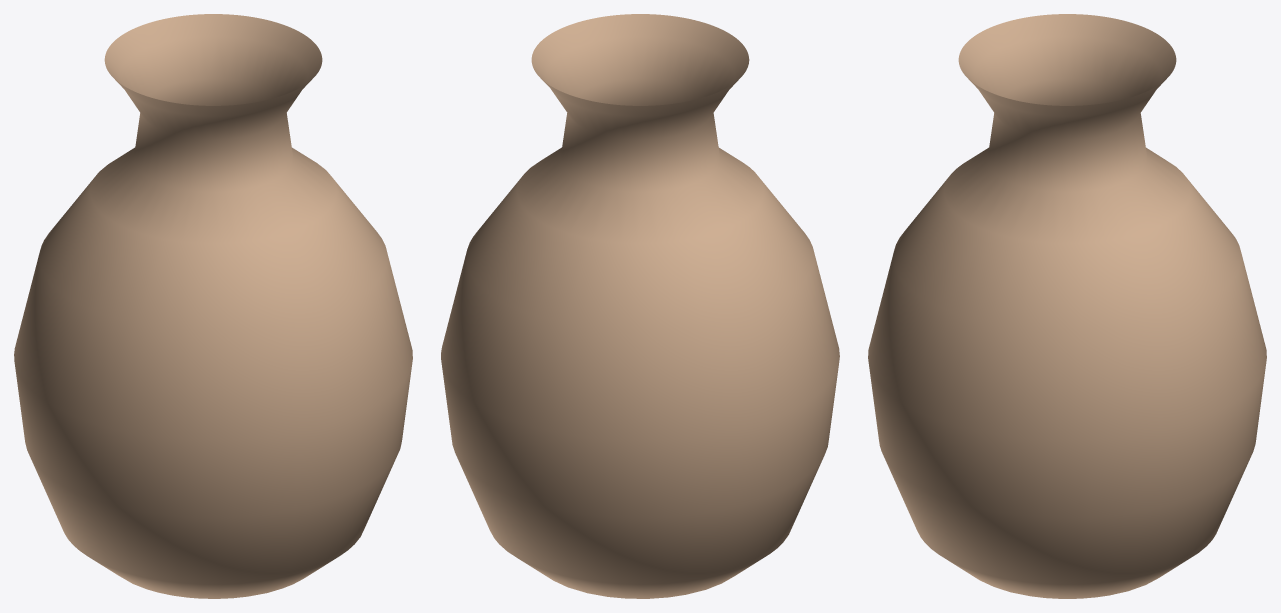
File: ai_amphora.glb
The picture shows the model from 3 angles, left to right: view 1: azimuth 30°, elevation 25°; view 2: azimuth 150°, elevation 25°; view 3: azimuth 270°, elevation 25°; orthographic projection.
Visible parts, largest first — view 1: CT40_Amphora; view 2: CT40_Amphora; view 3: CT40_Amphora.
Boxes of the visible parts, x1,y1,x2,y2 form: CT40_Amphora: [14, 14, 412, 598]; CT40_Amphora: [441, 14, 839, 598]; CT40_Amphora: [868, 14, 1266, 598].
Bounding box in the file's own units: 1.1 × 1.5 × 1.1.
